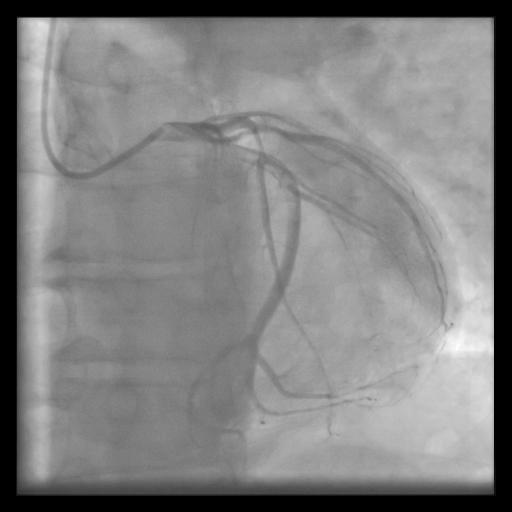Stenosis: (250, 126, 267, 161)
